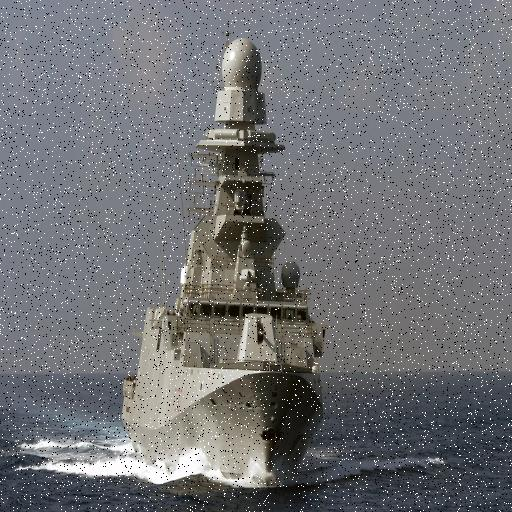Fragata: (101, 13, 314, 496)
